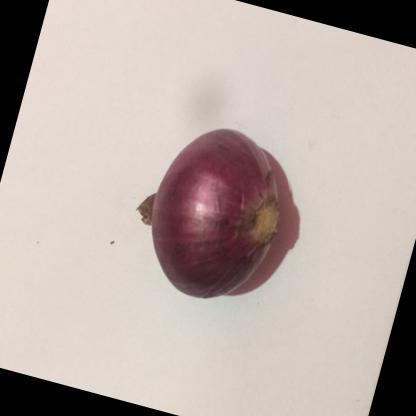onion: (102, 98, 329, 331)
